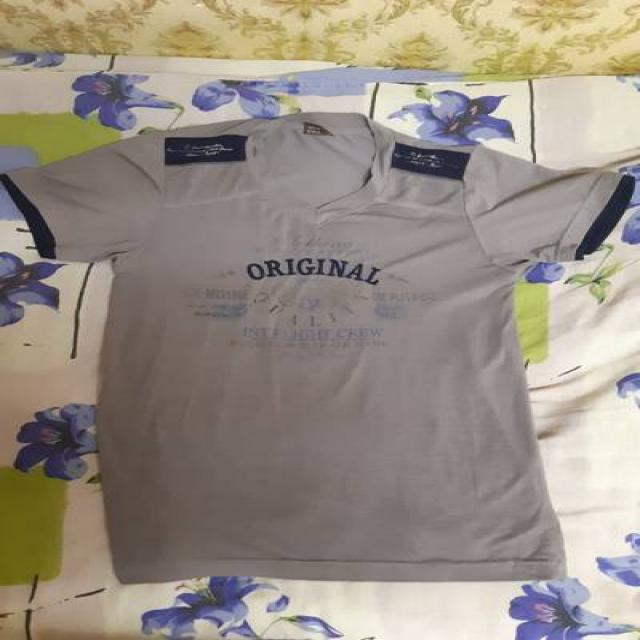shirt: (0, 112, 634, 586)
